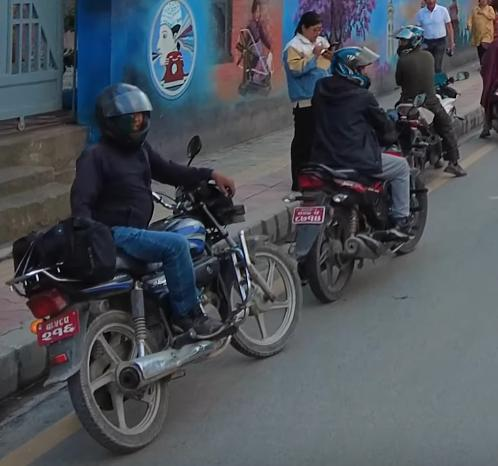bike: (0, 134, 297, 453), (286, 87, 438, 309)
